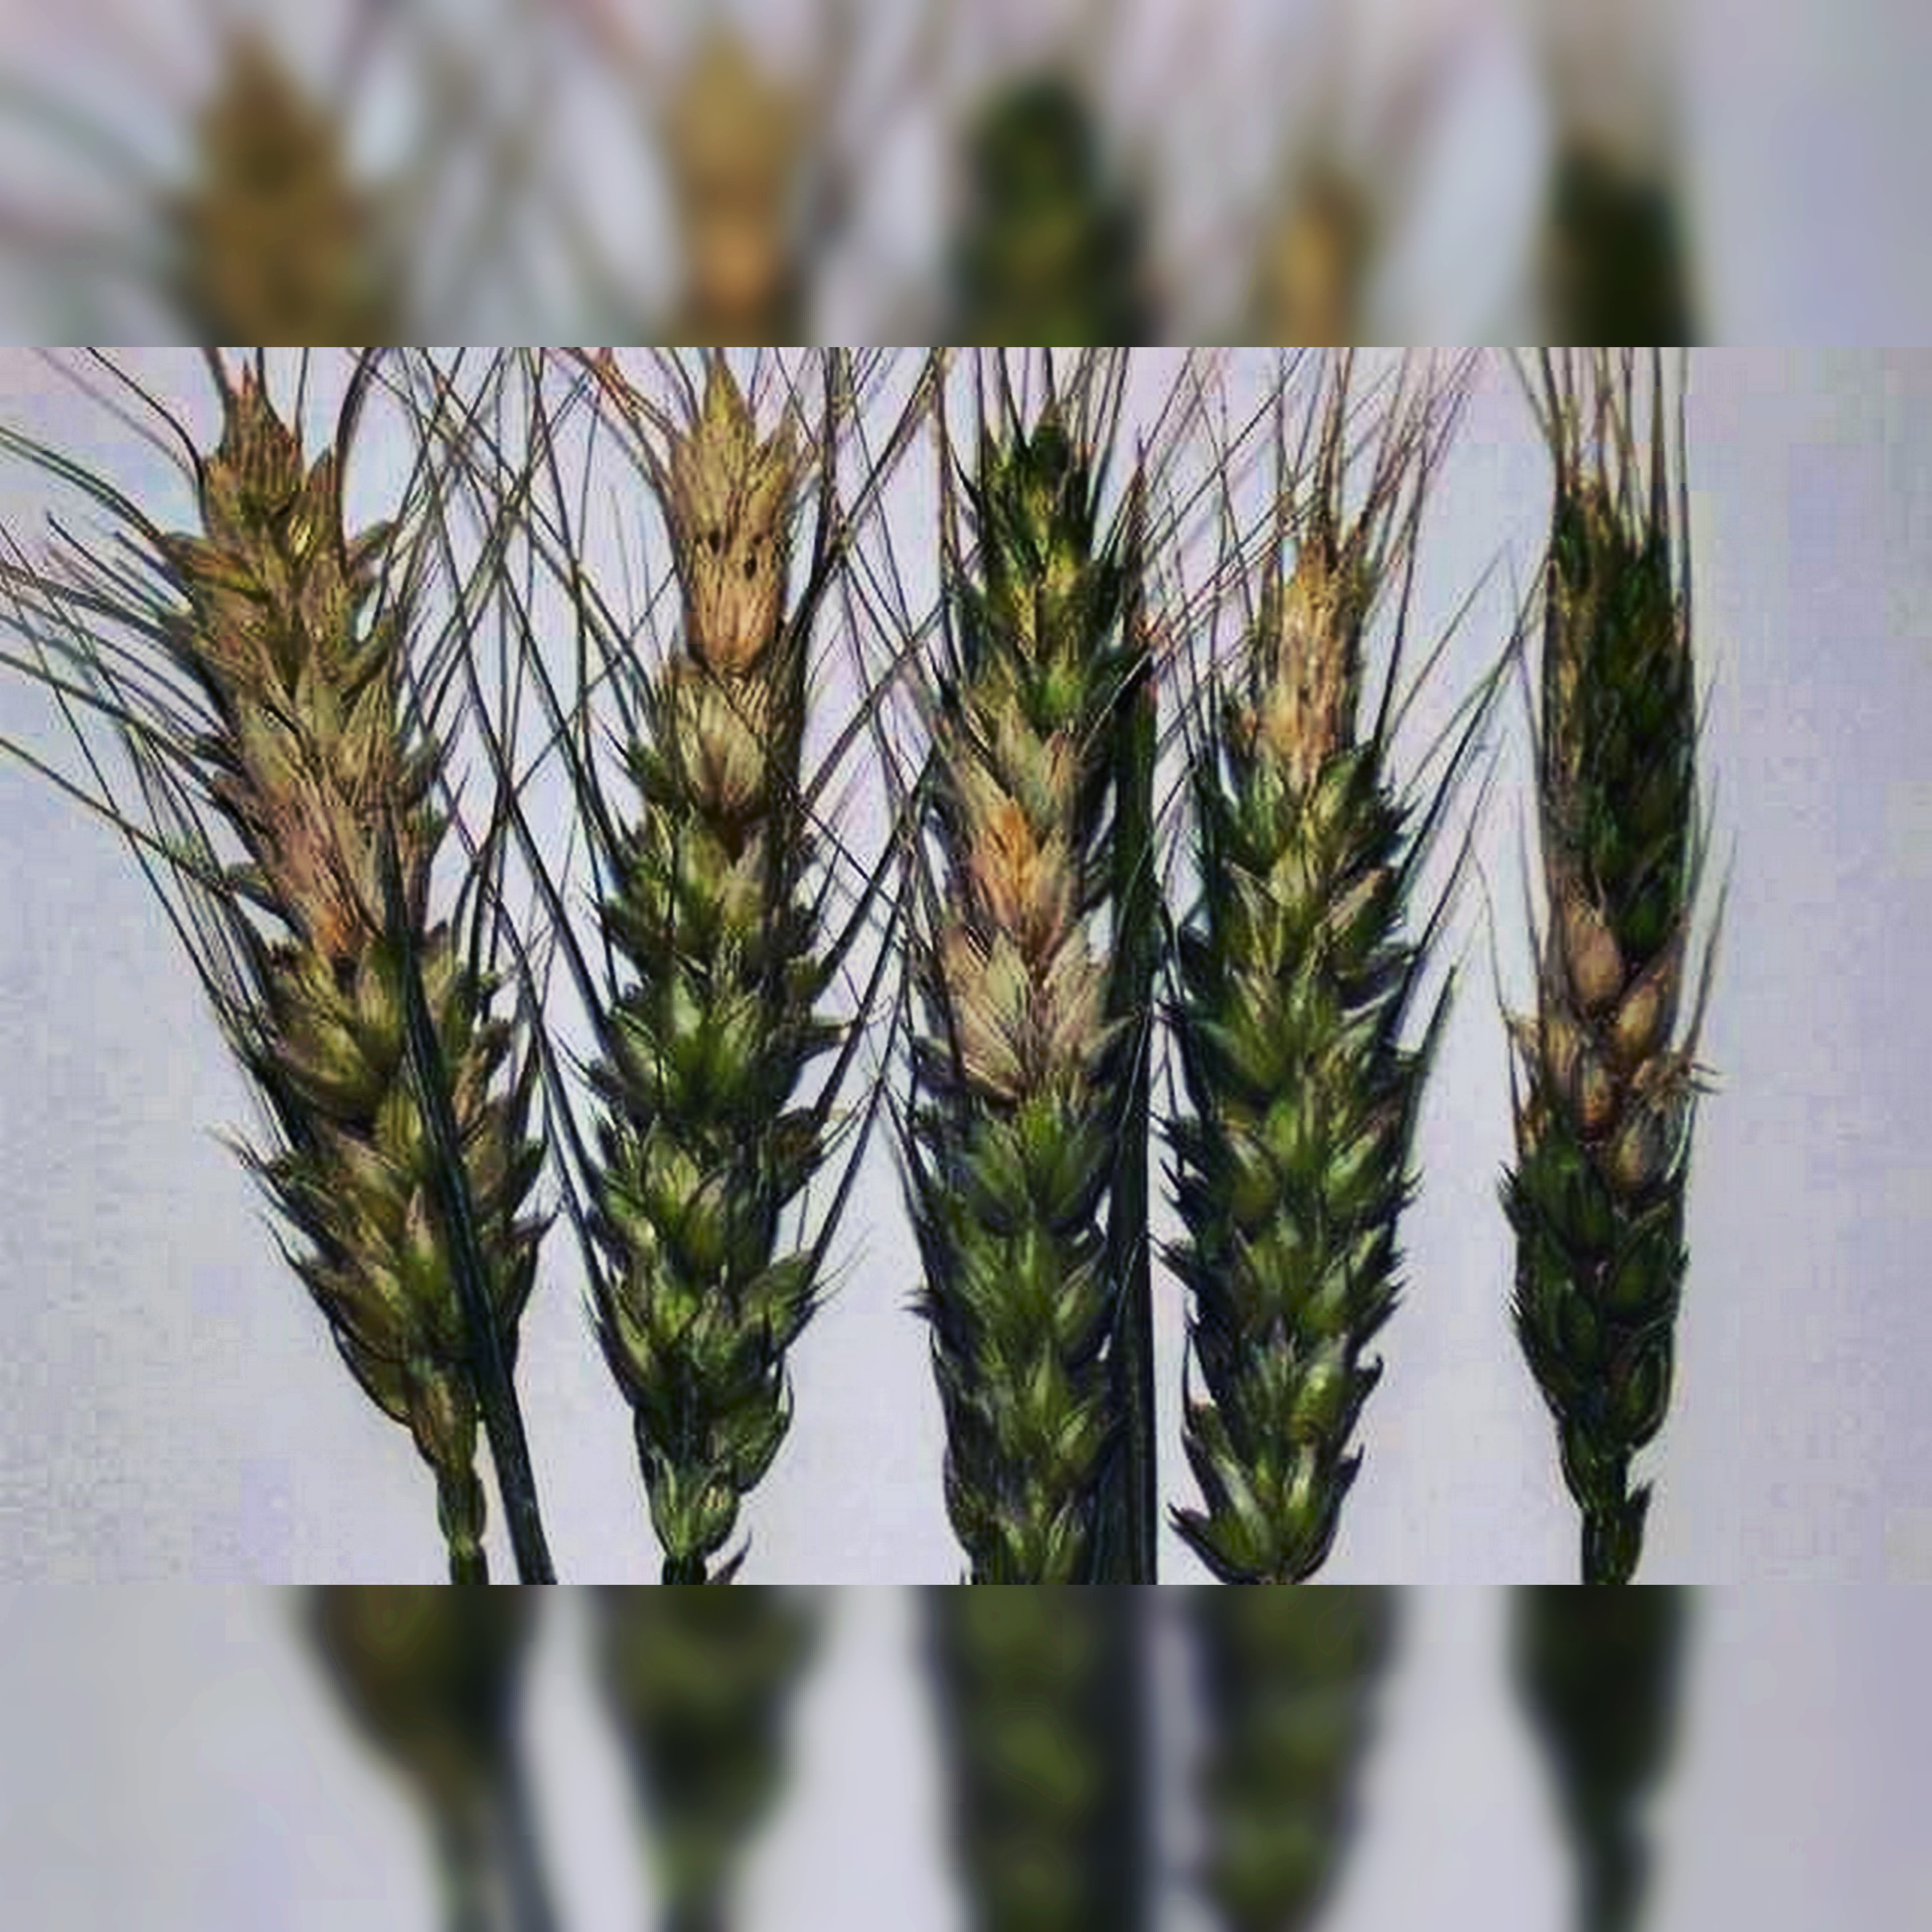Wheat scab: (899, 410, 1720, 1490), (134, 375, 828, 1470)
